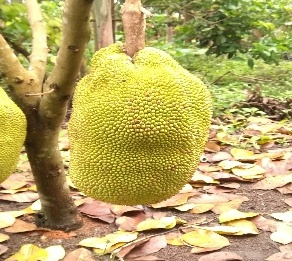Mit: (66, 42, 213, 209)
